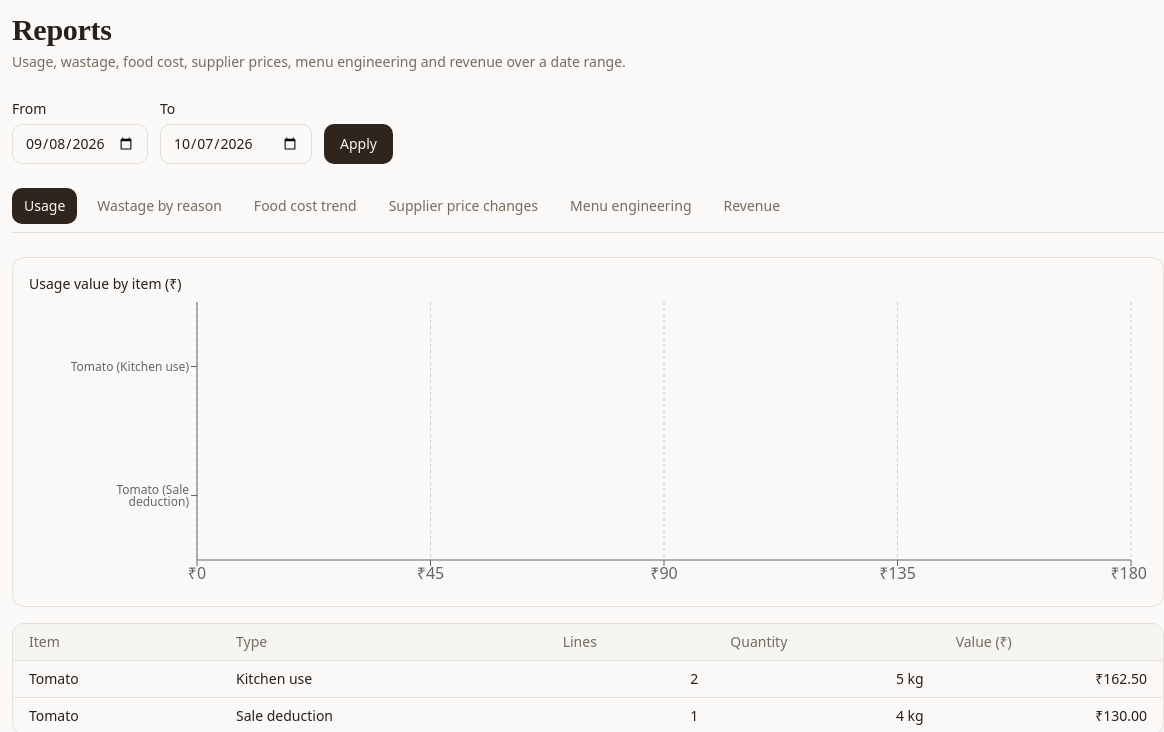
Test: ReportsPage › shows the menu engineering quadrants, badges and margins
This screenshot has width=1164, height=732.
Click the tab "Menu engineering" at (631, 206), box top-left (558, 188), bottom-right (704, 224)
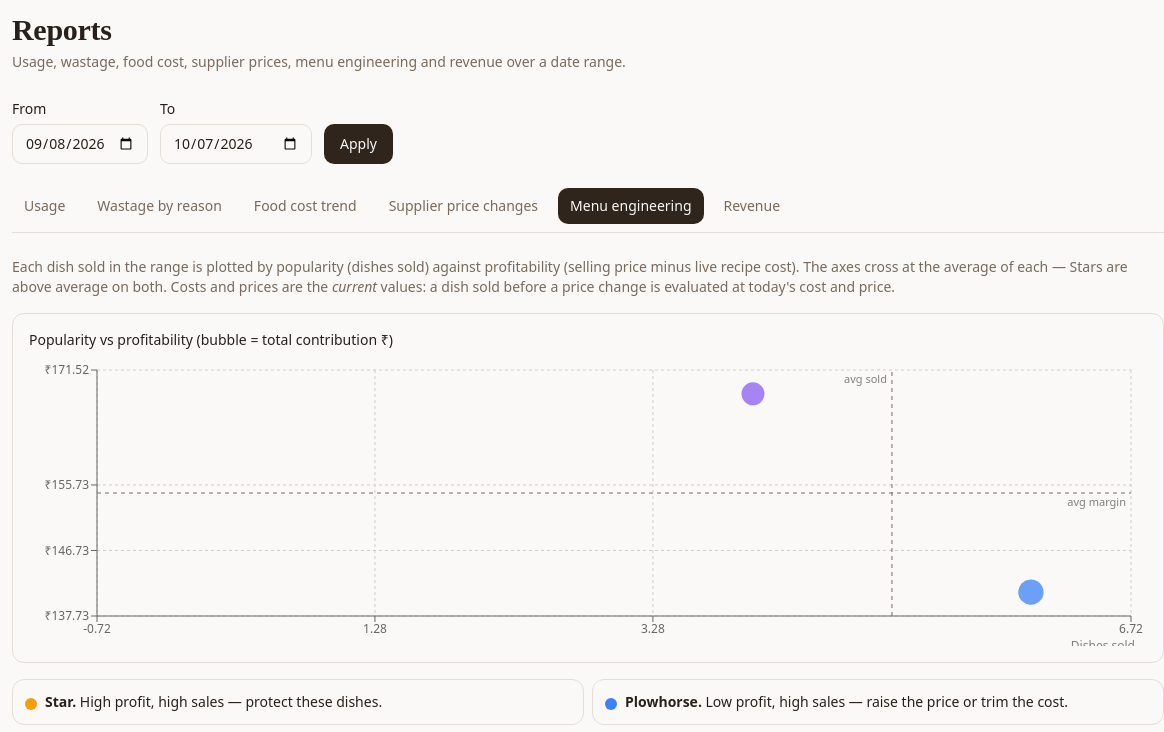
Check: the element labelled "Popularity vs profitability (bubble = total contribution ₹)" is shown, box top-left (12, 313), bottom-right (1163, 663)
Check: the text "Star. High profit, high sales — protect these dishes." is shown, box top-left (45, 692), bottom-right (382, 712)
Check: the text "evaluated at today's cost and price" is shown, box top-left (377, 277), bottom-right (895, 296)
